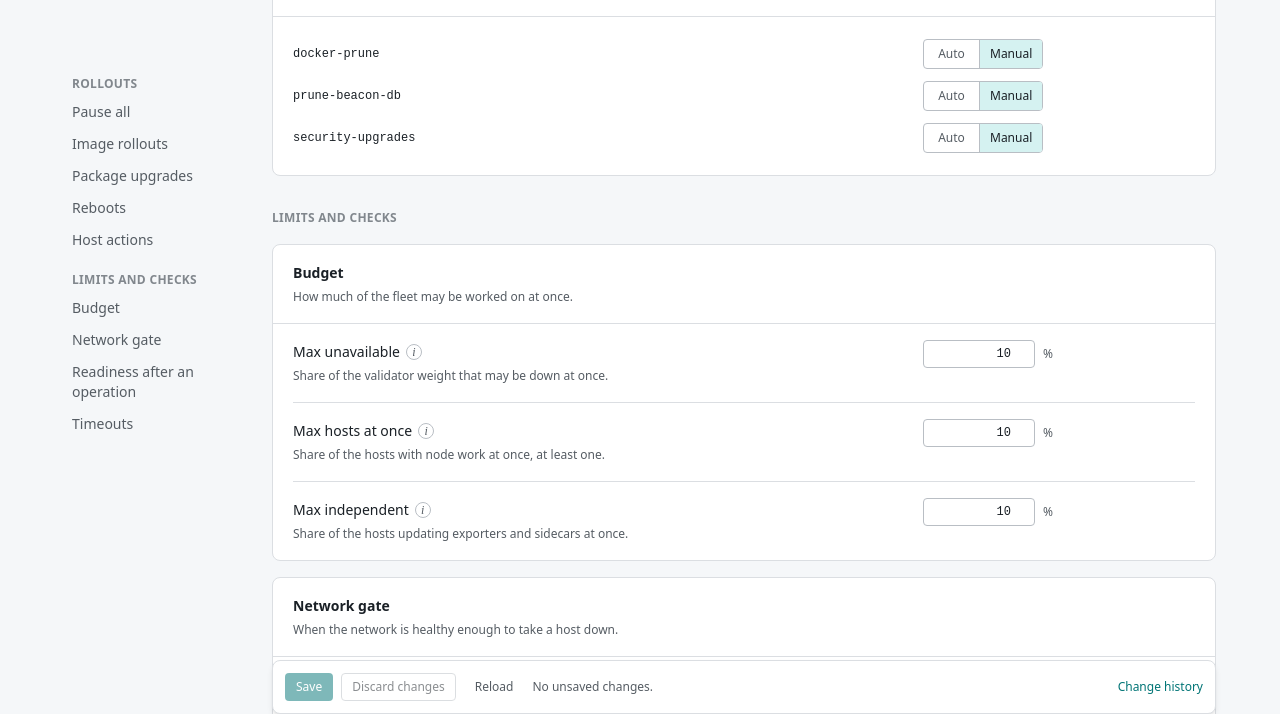
Test: SettingsTab › saves only what changed, and says what will change before it does
(page scrolled)
Replace the text in the number field labelled "Max unavailable" with "12.5" at (979, 354), box [923,340,1035,368]
(page scrolled)
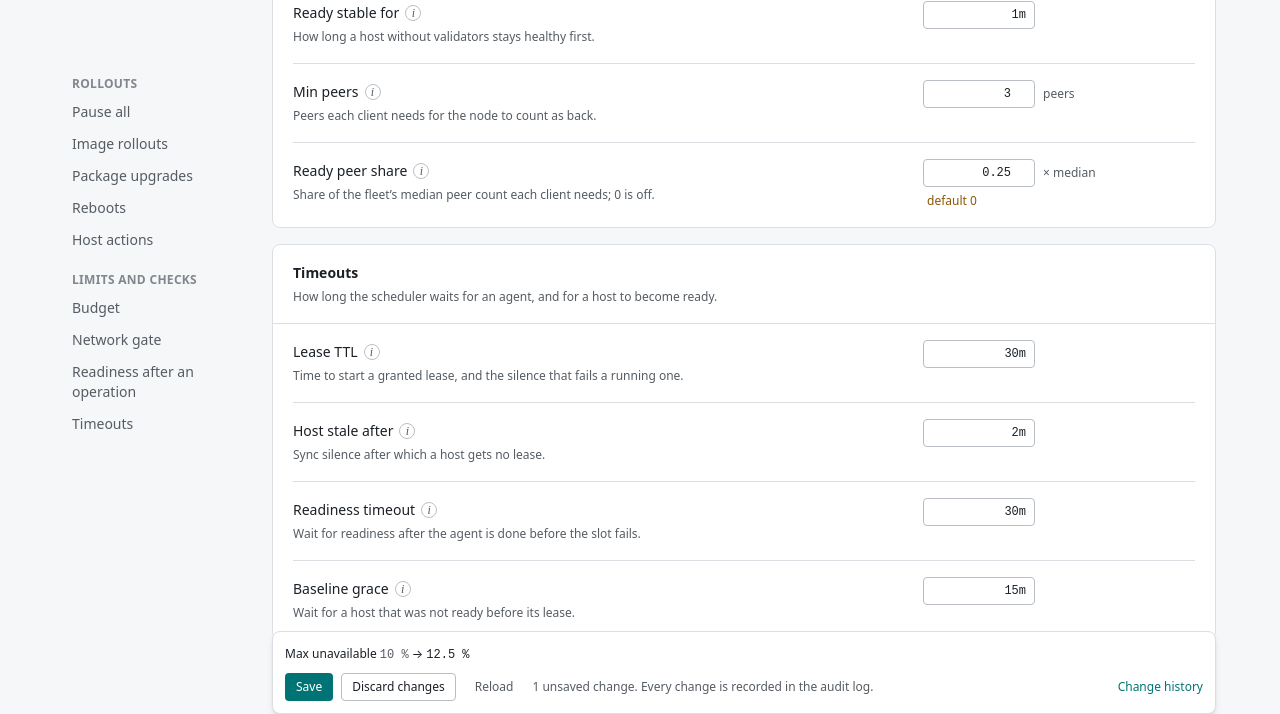
Replace the text in the field labelled "Lease TTL" with "45m" at (979, 354), box [923,340,1035,368]
(page scrolled)
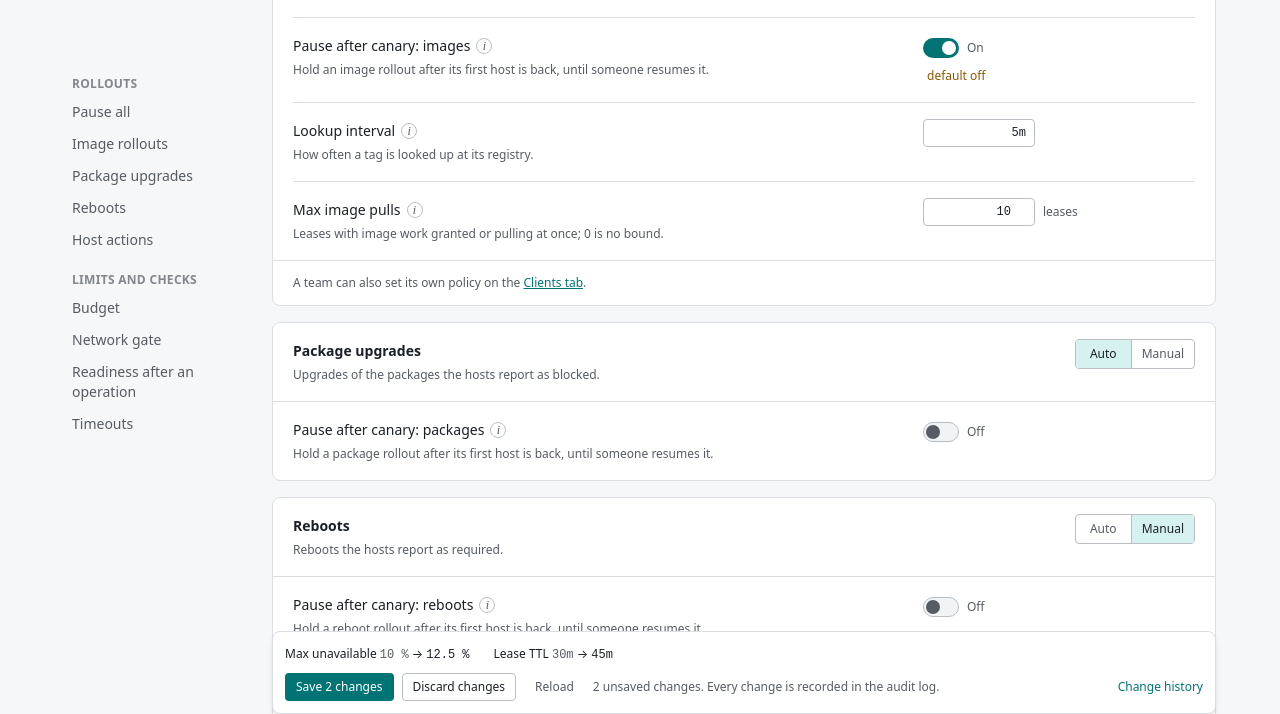
Click the 1st button "Manual" at (1163, 354), box [1132,340,1194,368]
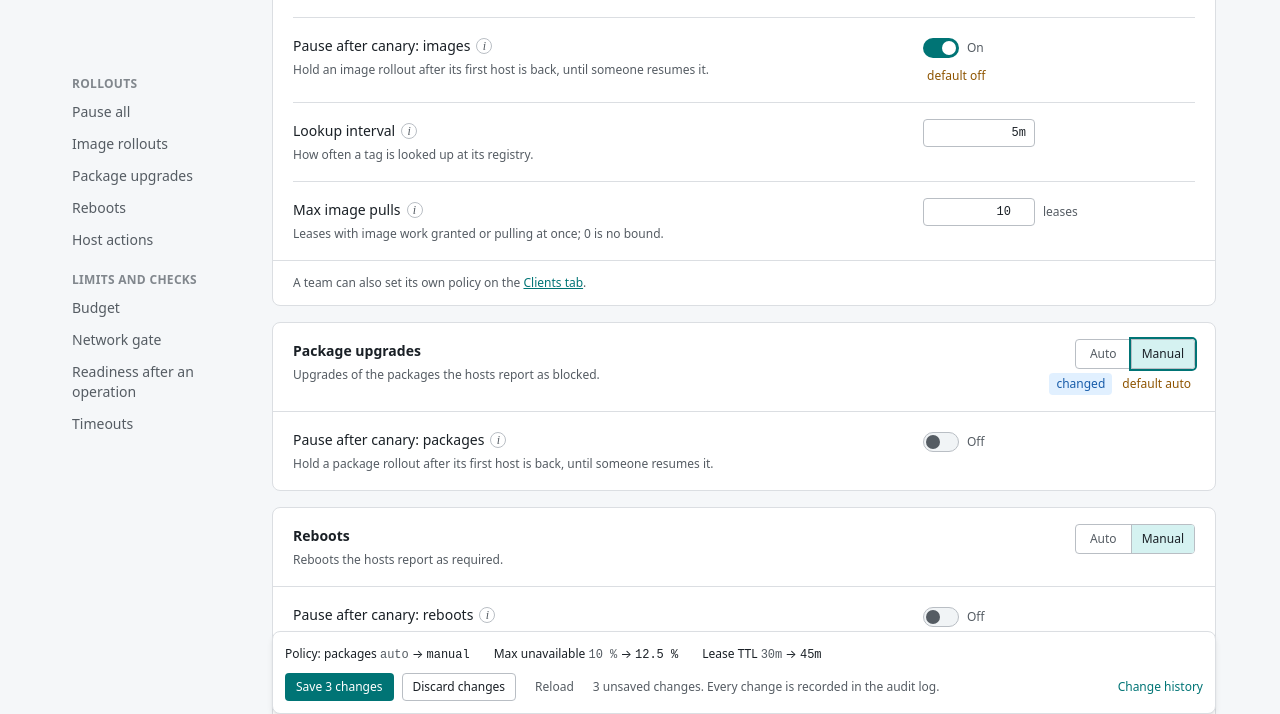
Now the message shows "3 unsaved changes", box [593,678,940,695]
Now the list items read "Policy: packages auto → manual", "Max unavailable 10 % → 12.5 %", "Lease TTL 30m → 45m", in this order, box [285,644,470,665]; [494,644,678,665]; [702,644,822,665]
Click the button "Save 3 changes" at (339, 687), box [285,673,394,701]
(page scrolled)
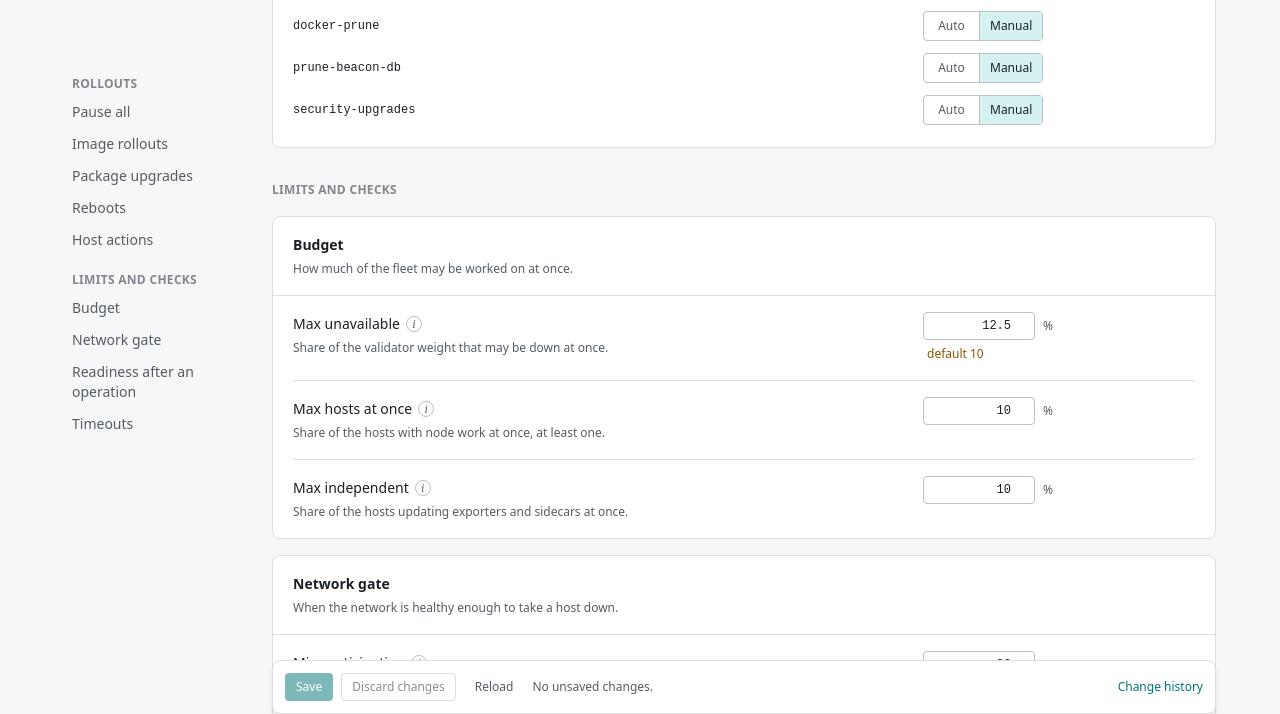
Now the message reads "No unsaved changes.", box [532,678,653,695]
Now the number field labelled "Max unavailable" holds "12.5", box [923,312,1035,340]
Now the button "Save" is disabled, box [285,673,333,701]
Click the button with aria-label "Reset Max unavailable to its default" at (955, 354), box [923,344,988,364]
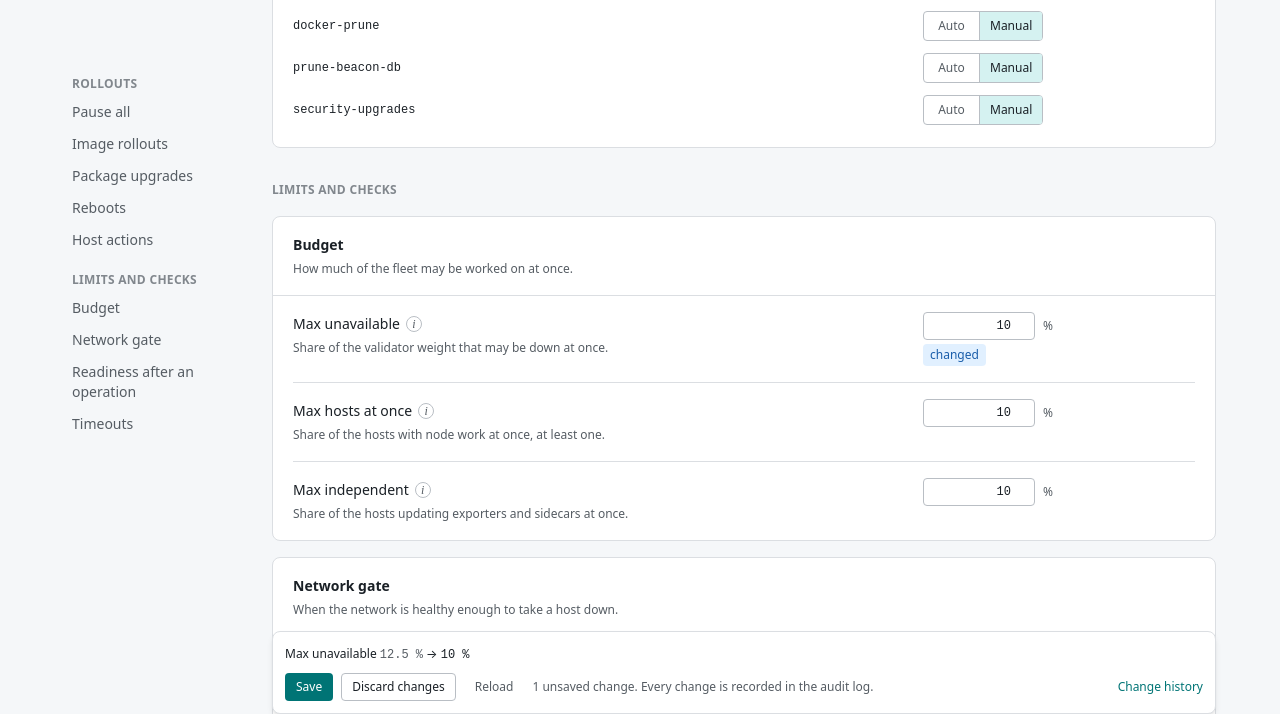
Now the number field labelled "Max unavailable" holds "10", box [923,312,1035,340]
Now the message shows "1 unsaved change.", box [532,678,873,695]
